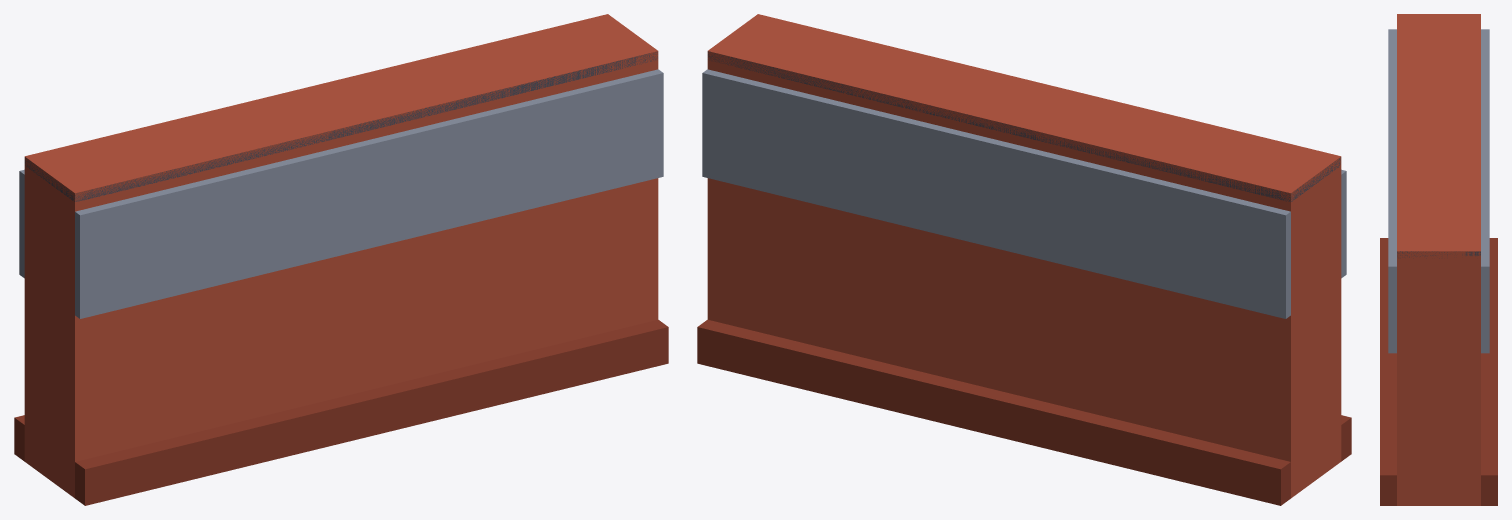
The model's file is partition.glb.
3 renders of one model, left to right at view 1: azimuth 30°, elevation 25°; view 2: azimuth 150°, elevation 25°; view 3: azimuth 270°, elevation 25°, orthographic. The views are drawn at different scales.
Visible parts, largest first — view 1: partition; view 2: partition; view 3: partition.
Boxes of the visible parts, x1,y1,x2,y2 form: partition: (14,14,668,505); partition: (697,14,1351,505); partition: (1380,14,1497,505).
Bounding box in the file's own units: 1 × 0.5 × 0.21.
1 material, 1 textured.
